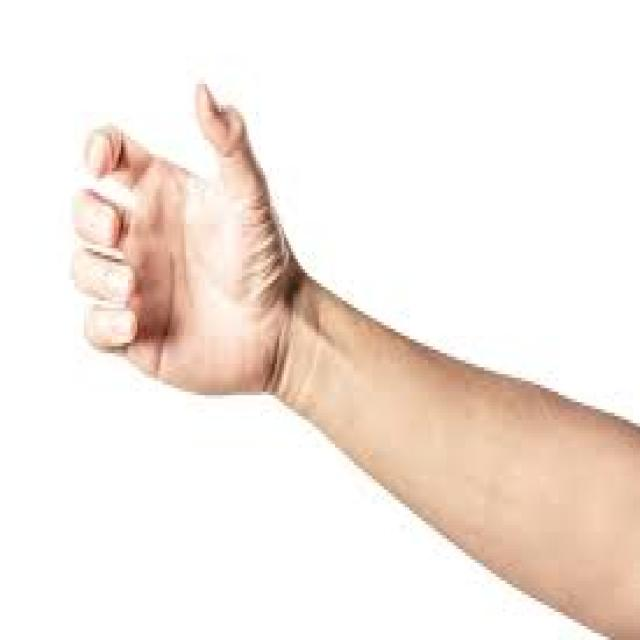hand: (68, 61, 328, 443)
